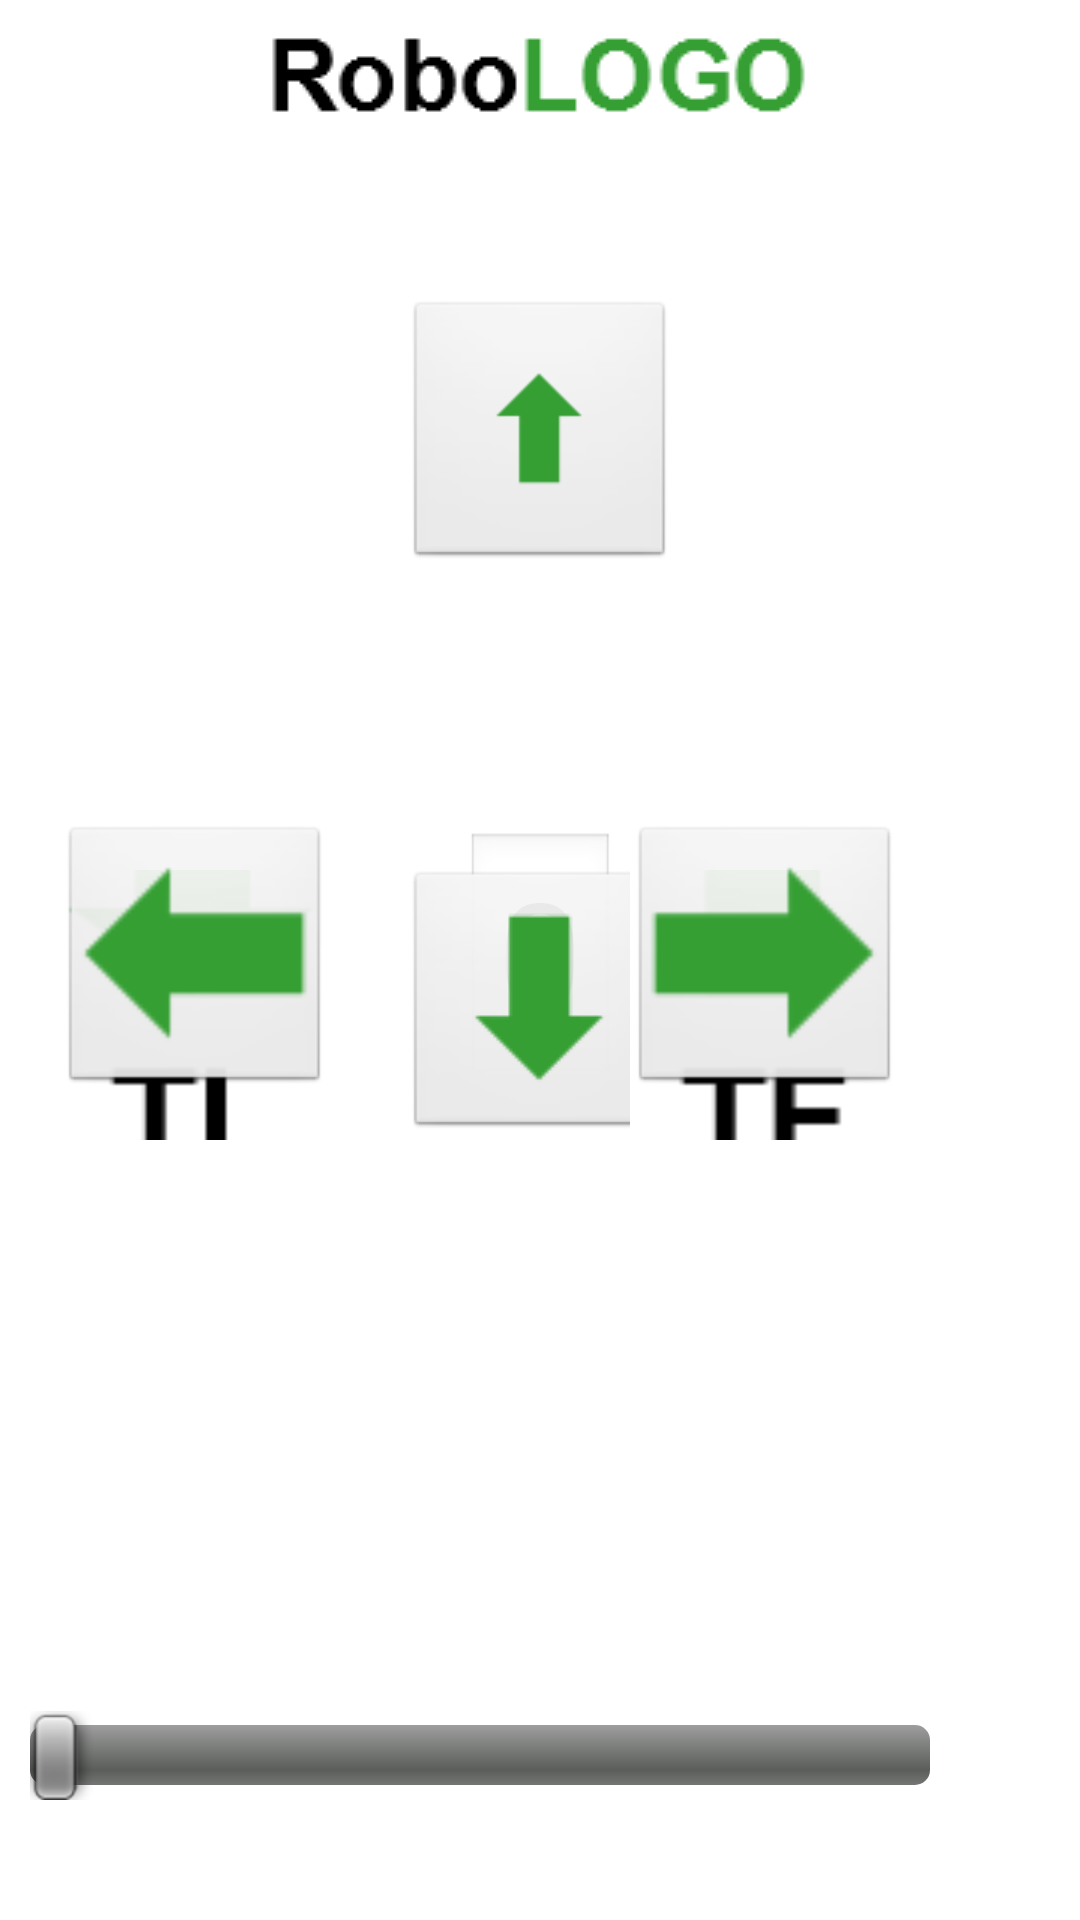

Screen size 1080w x 1920h. Icon name, then its box in pixels as (x1, y1, x2, y2):
arrow bw: (413, 870, 675, 1128)
arrow fw: (413, 302, 666, 558)
